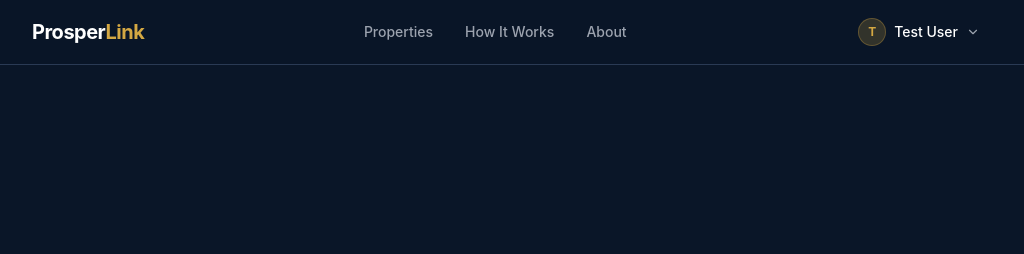
Test: Navbar › Authenticated state › shows dropdown menu items after clicking avatar button
Click the button: (919, 32) [846, 10, 992, 54]
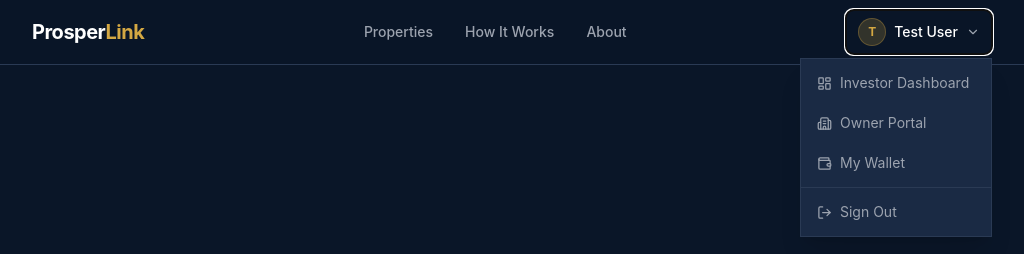
Check: the link "Investor Dashboard" is shown, box [817, 74, 969, 91]
Check: the link "Owner Portal" is shown, box [817, 114, 926, 131]
Check: the link "My Wallet" is shown, box [817, 154, 905, 171]
